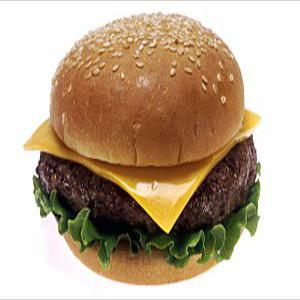cheeseburger: (24, 9, 266, 287)
